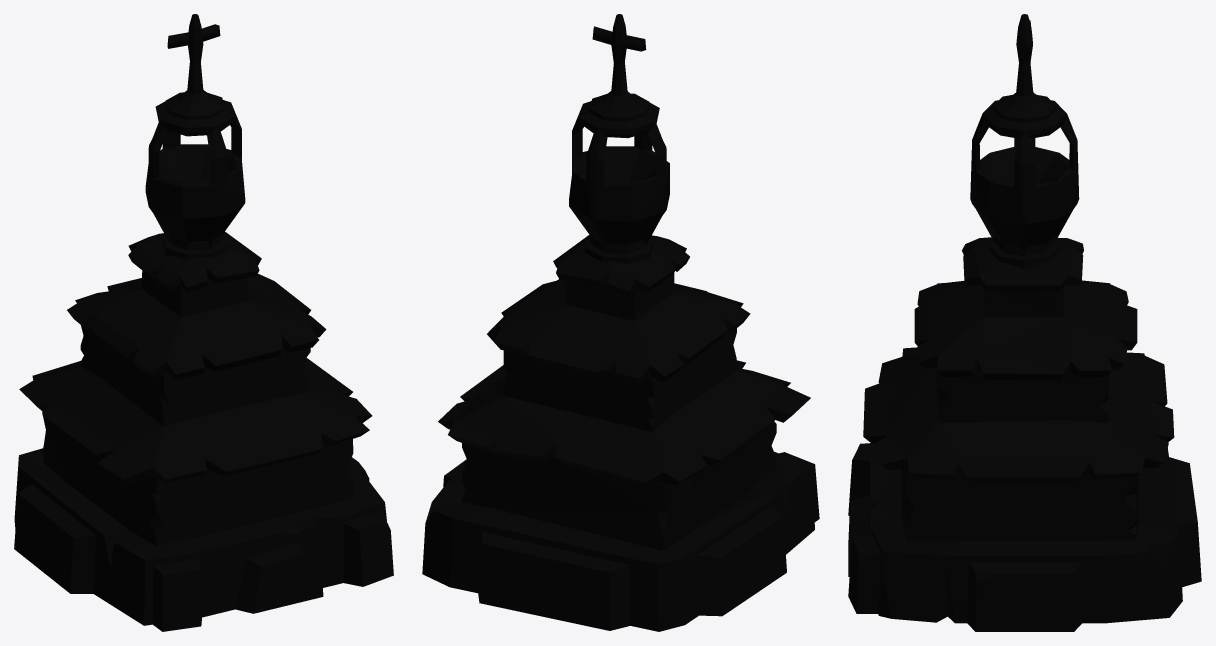
Rendered from Shrine.fbx.
3 views of the same model, side by side, from view 1: azimuth 30°, elevation 25°; view 2: azimuth 150°, elevation 25°; view 3: azimuth 270°, elevation 25° (orthographic). The views are drawn at different scales.
Parts seen in each view (by area): view 1: HellShrine; view 2: HellShrine; view 3: HellShrine.
Boxes of the visible parts, x1,y1,x2,y2 form: HellShrine: [14, 14, 393, 631]; HellShrine: [422, 14, 819, 631]; HellShrine: [848, 14, 1201, 631].
Bounding box in the file's own units: 7.55 × 12.82 × 7.59.
